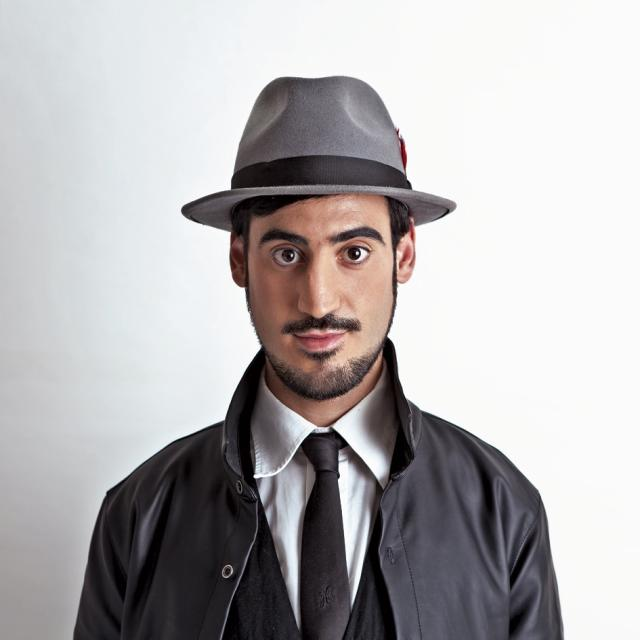mobile_phonerotation: (72, 73, 565, 638)
